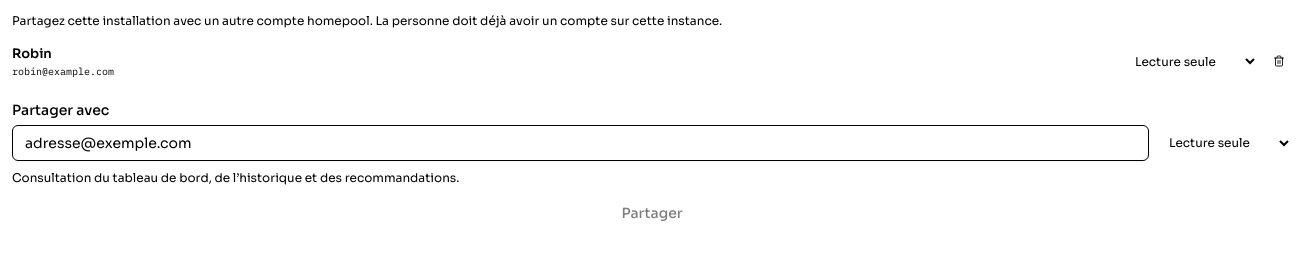
Test: SharingTab › reports an installation already shared with that account
This screenshot has width=1304, height=264.
Check: the text "Robin" is shown, box x1=12 y1=45 x2=52 y2=62
Step 1. Type "robin@example.com" into the field with placeholder "adresse@exemple.com" → (580, 142), box x1=12 y1=124 x2=1149 y2=160
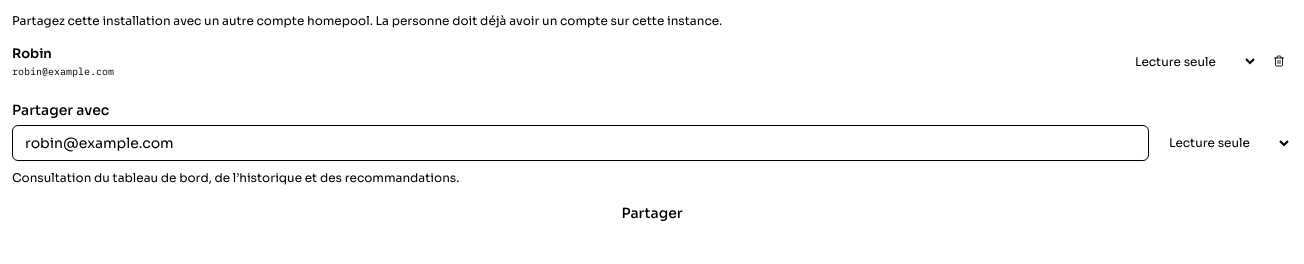
Step 2. Click the button "Partager" → (652, 212), box x1=12 y1=194 x2=1292 y2=230
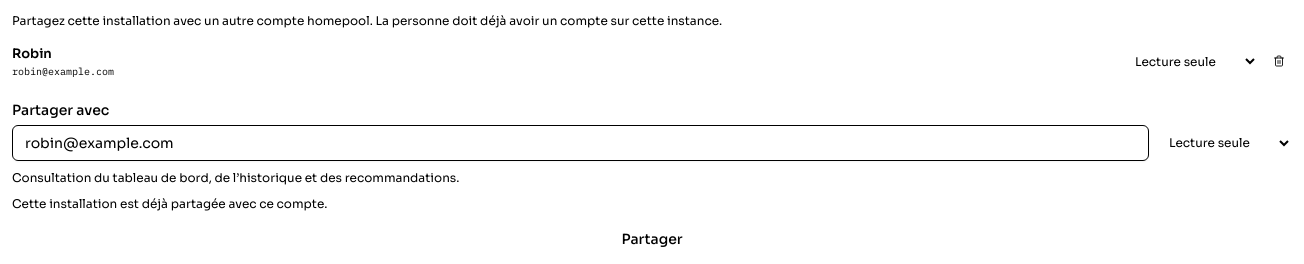
Check: the text "Cette installation est déjà partagée avec ce compte." is shown, box x1=12 y1=196 x2=327 y2=210
